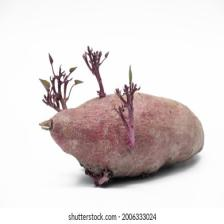Sprouted potato: (32, 49, 209, 194)
